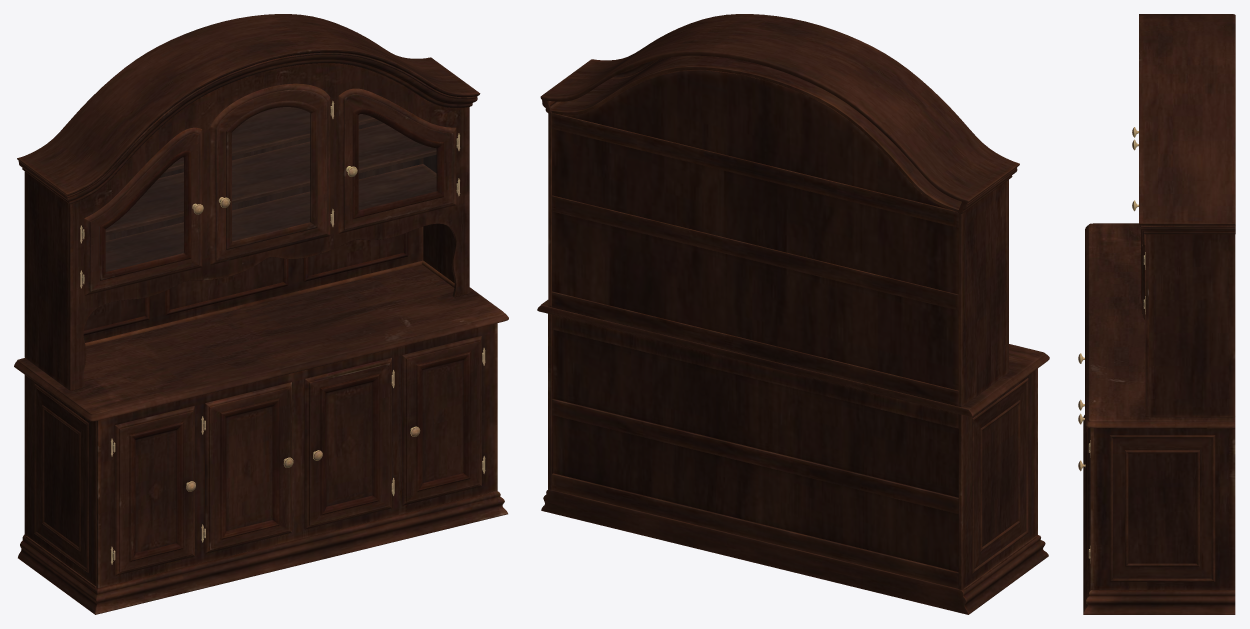
The model's file is vintage_cabinet_01_lod0.glb.
3 views of the same model, side by side, from view 1: azimuth 30°, elevation 25°; view 2: azimuth 150°, elevation 25°; view 3: azimuth 270°, elevation 25° (orthographic). The views are drawn at different scales.
Visible parts, largest first — view 1: vintage_cabinet_01_body, vintage_cabinet_01_door_03, vintage_cabinet_01_door_01, vintage_cabinet_01_door_04, vintage_cabinet_01_door_07, vintage_cabinet_01_door_06, vintage_cabinet_01_door_05, vintage_cabinet_01_door_02; view 2: vintage_cabinet_01_body; view 3: vintage_cabinet_01_body, vintage_cabinet_01_door_02, vintage_cabinet_01_door_04.
Part boxes in pixels (<box>): vintage_cabinet_01_body: <box>14,14,508,614</box>; vintage_cabinet_01_door_03: <box>210,83,332,264</box>; vintage_cabinet_01_door_01: <box>82,127,203,295</box>; vintage_cabinet_01_door_04: <box>338,88,458,233</box>; vintage_cabinet_01_door_07: <box>304,357,392,529</box>; vintage_cabinet_01_door_06: <box>204,382,293,553</box>; vintage_cabinet_01_door_05: <box>113,406,195,575</box>; vintage_cabinet_01_door_02: <box>402,335,483,505</box>; vintage_cabinet_01_body: <box>537,14,1049,614</box>; vintage_cabinet_01_body: <box>1083,14,1235,614</box>; vintage_cabinet_01_door_02: <box>1078,427,1090,572</box>; vintage_cabinet_01_door_04: <box>1132,200,1145,319</box>.
Bounding box in the file's own units: 2.02 × 2.24 × 0.6698.
Materials: 3 (2 with a texture image).
